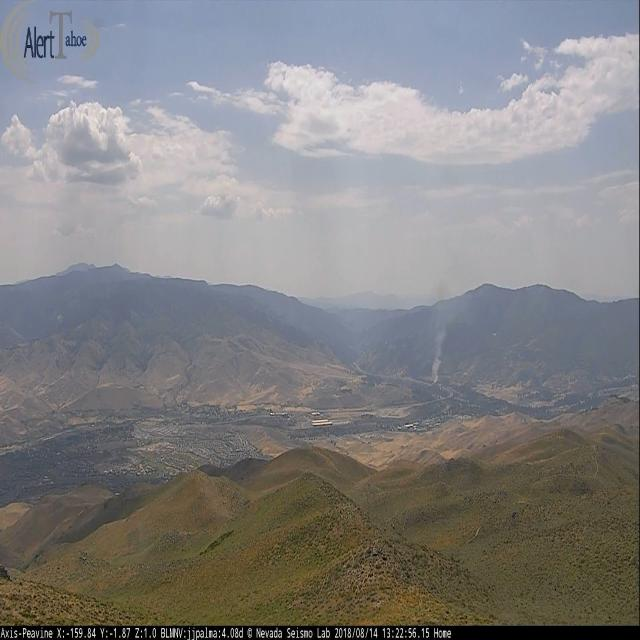smoke: (431, 285, 452, 385)
